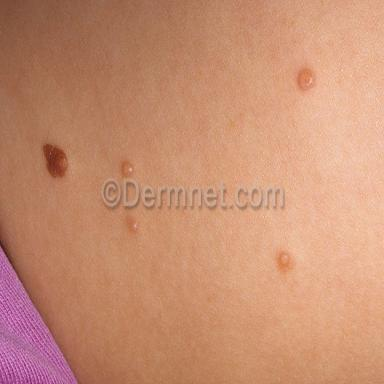Molluscum-Contagiosum: (297, 67, 316, 90), (121, 160, 133, 177), (278, 252, 290, 267), (129, 219, 139, 232)
